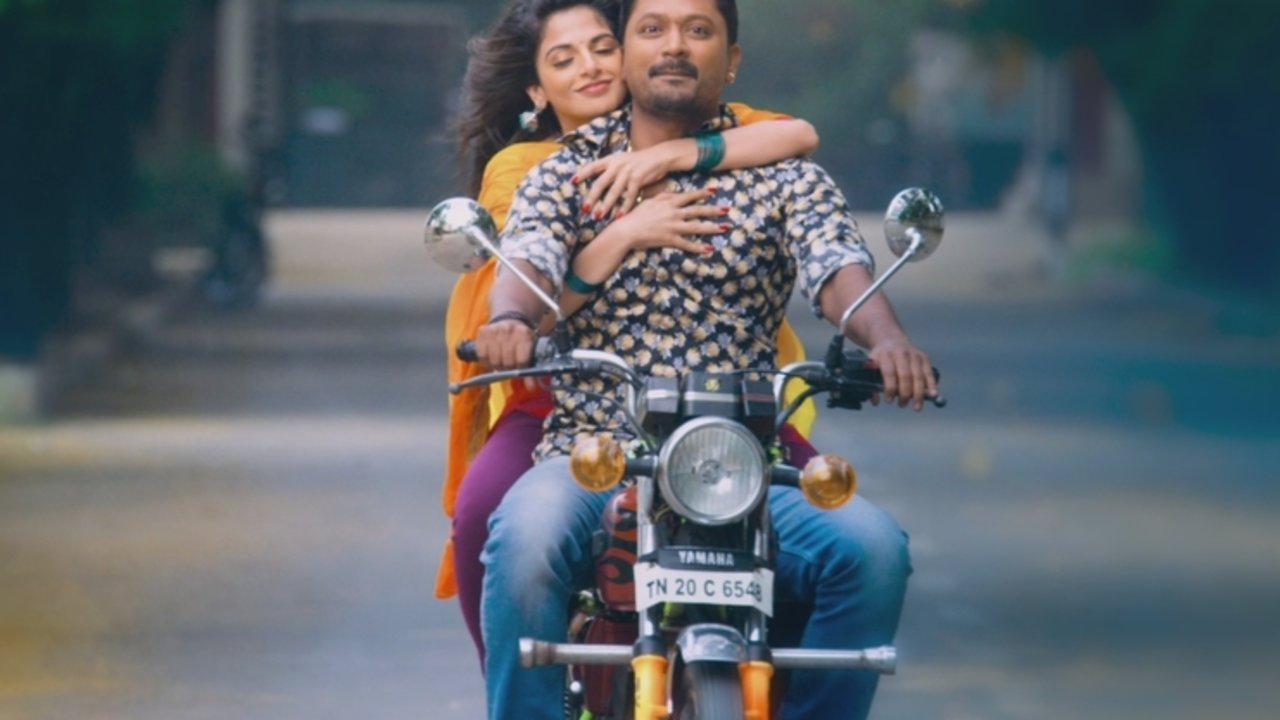motor: (431, 182, 948, 717)
no helmet: (622, 5, 738, 121), (517, 8, 627, 123)
number: (631, 560, 774, 613)
